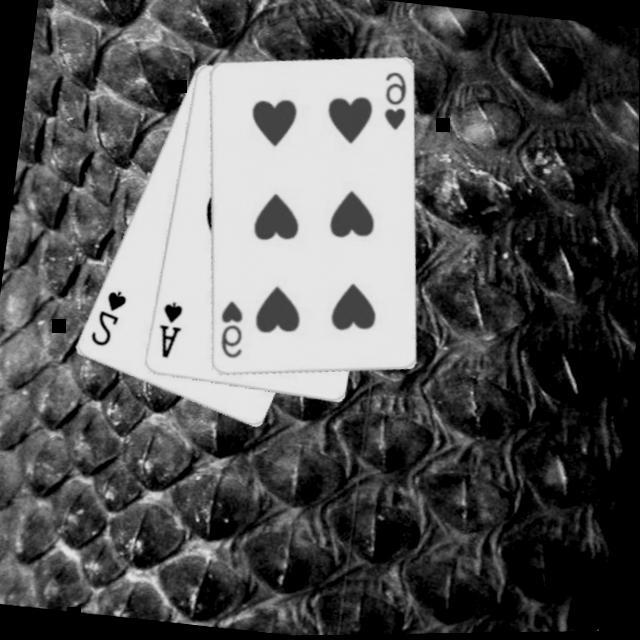2S: (84, 283, 128, 351)
6H: (210, 296, 249, 362), (373, 68, 412, 134)
AS: (150, 296, 185, 361)
